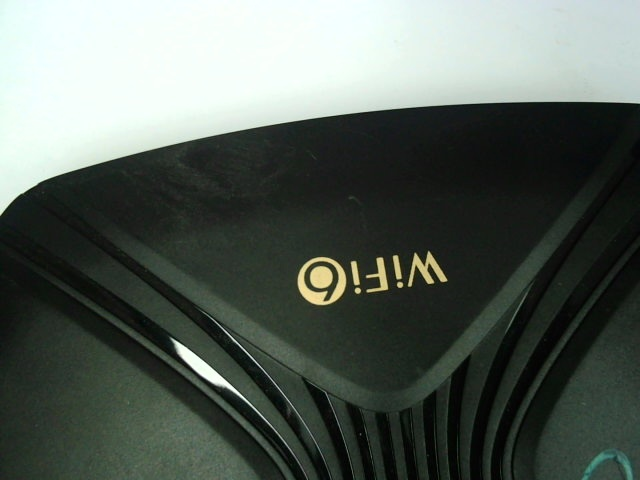AK_ZTEWIFI6Black: (261, 224, 455, 305)
